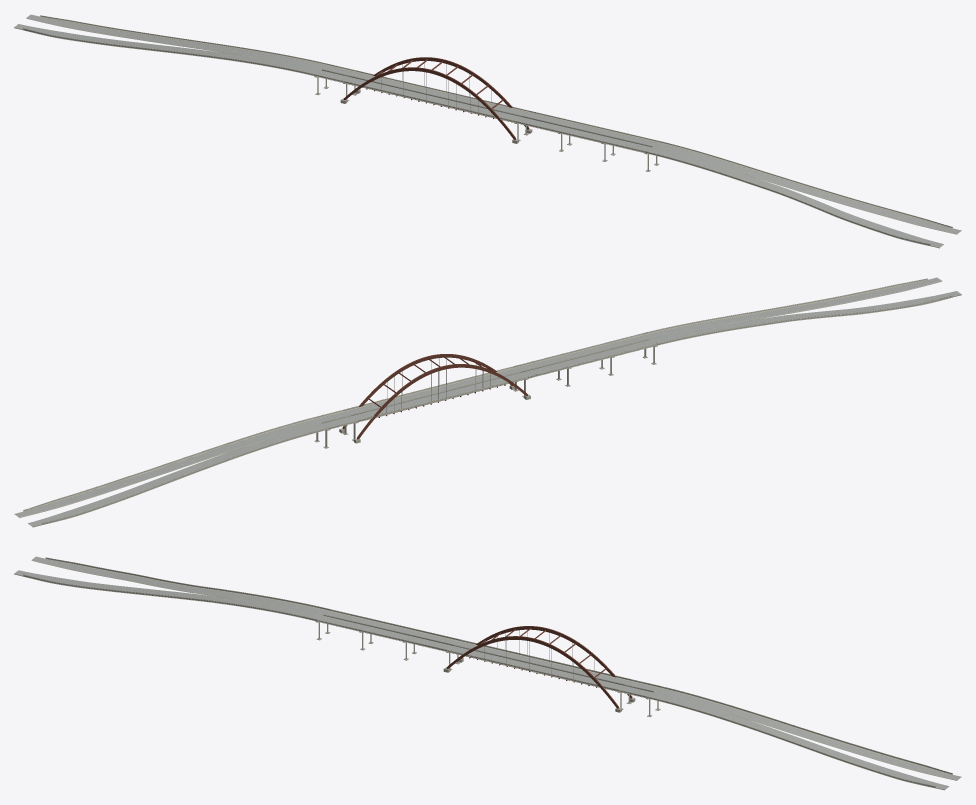
The model's file is pennybacker-bridge-near.glb.
3 renders of one model, top to bottom at view 1: azimuth 90°, elevation 25°; view 2: azimuth 150°, elevation 25°; view 3: azimuth 270°, elevation 25°, orthographic.
Visible parts, largest first — view 1: pennybacker-bridge-0-asphalt, pennybacker-bridge-2-asphalt, pennybacker-bridge-0-concrete, pennybacker-bridge-2-concrete, pennybacker-bridge-1-asphalt, pennybacker-bridge-1-arch, pennybacker-bridge-1-concrete; view 2: pennybacker-bridge-0-asphalt, pennybacker-bridge-2-asphalt, pennybacker-bridge-0-concrete, pennybacker-bridge-2-concrete, pennybacker-bridge-1-asphalt, pennybacker-bridge-1-arch, pennybacker-bridge-1-concrete; view 3: pennybacker-bridge-0-asphalt, pennybacker-bridge-2-asphalt, pennybacker-bridge-0-concrete, pennybacker-bridge-2-concrete, pennybacker-bridge-1-asphalt, pennybacker-bridge-1-arch, pennybacker-bridge-1-concrete.
Part boxes in pixels (x1,y1,x2,y2): pennybacker-bridge-0-asphalt: [517, 112, 961, 247]; pennybacker-bridge-2-asphalt: [14, 14, 355, 80]; pennybacker-bridge-0-concrete: [515, 110, 957, 248]; pennybacker-bridge-2-concrete: [14, 15, 357, 95]; pennybacker-bridge-1-asphalt: [346, 72, 527, 120]; pennybacker-bridge-1-arch: [343, 57, 529, 139]; pennybacker-bridge-1-concrete: [340, 71, 532, 143]; pennybacker-bridge-0-asphalt: [514, 277, 961, 376]; pennybacker-bridge-2-asphalt: [14, 412, 355, 526]; pennybacker-bridge-0-concrete: [513, 278, 961, 386]; pennybacker-bridge-2-concrete: [19, 410, 357, 527]; pennybacker-bridge-1-asphalt: [344, 368, 525, 420]; pennybacker-bridge-1-arch: [342, 354, 527, 439]; pennybacker-bridge-1-concrete: [339, 366, 530, 443]; pennybacker-bridge-0-asphalt: [14, 556, 458, 649]; pennybacker-bridge-2-asphalt: [620, 681, 961, 789]; pennybacker-bridge-0-concrete: [14, 557, 460, 660]; pennybacker-bridge-2-concrete: [618, 679, 959, 790]; pennybacker-bridge-1-asphalt: [449, 641, 630, 689]; pennybacker-bridge-1-arch: [446, 626, 632, 708]; pennybacker-bridge-1-concrete: [443, 639, 635, 712].
Size of the model in its own units: 516 by 55.55 by 885.
